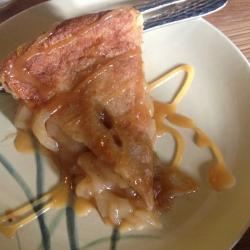apple_pie: (3, 7, 189, 223)
